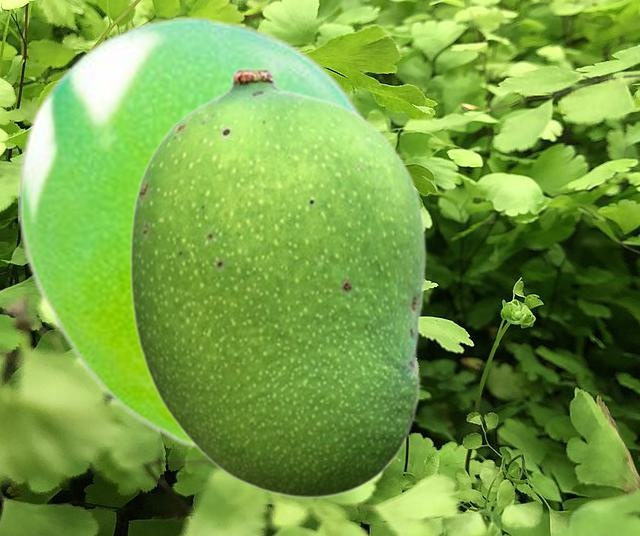green_mango: (18, 15, 370, 447), (128, 66, 425, 498)
